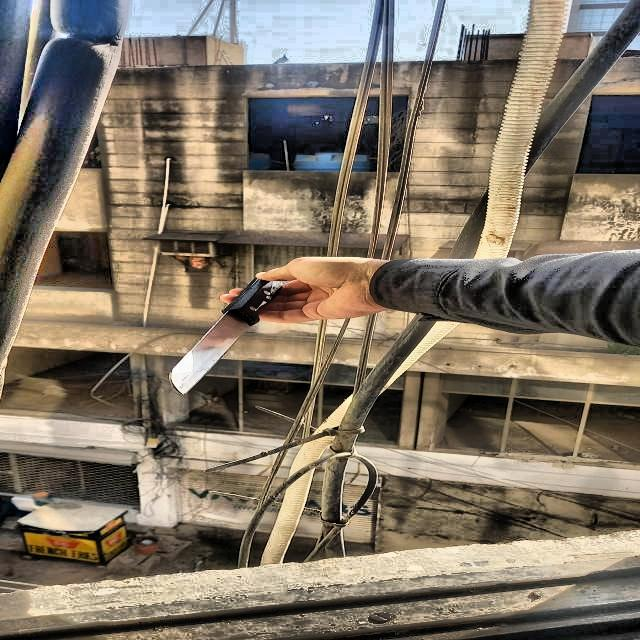knife: (171, 274, 281, 398)
